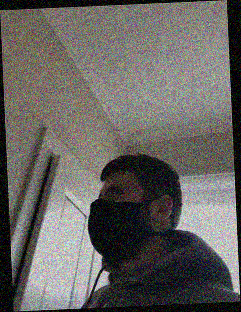with_mask: (87, 179, 146, 260)
